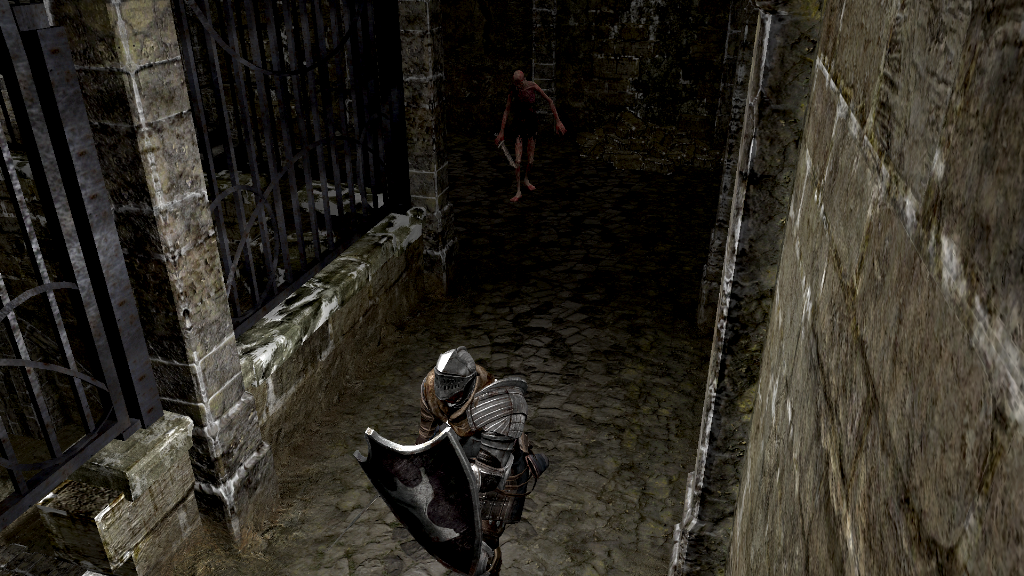hollow: (495, 69, 567, 202)
player: (350, 345, 551, 576)
